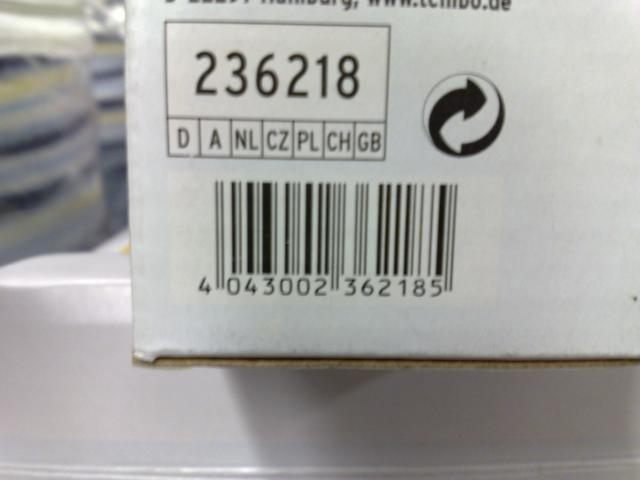Barcode: (190, 175, 462, 311)
